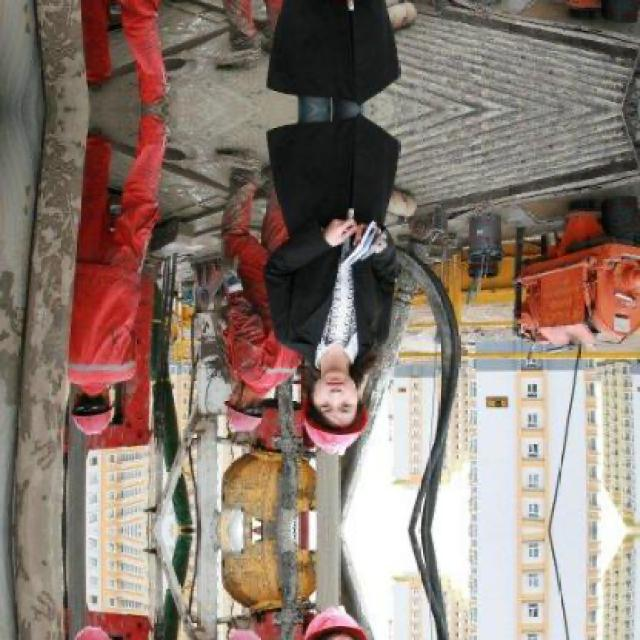con casco: (283, 356, 372, 456), (58, 376, 122, 464), (208, 397, 267, 435)
